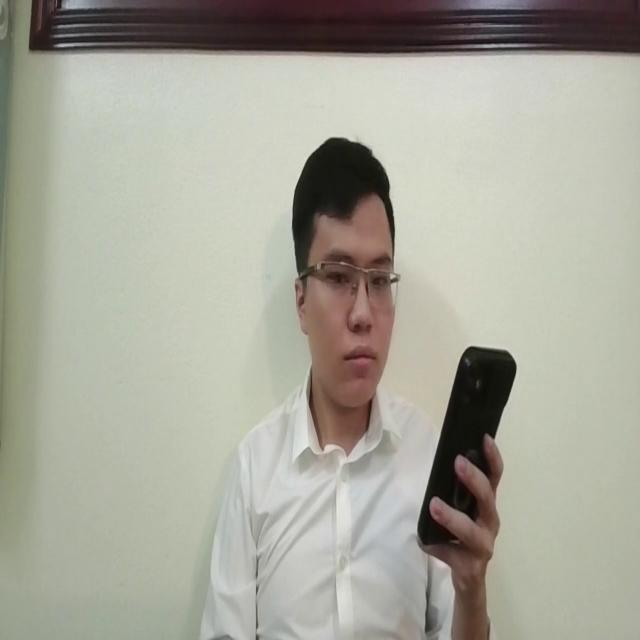phone: (418, 340, 517, 555)
student: (201, 132, 503, 640)
